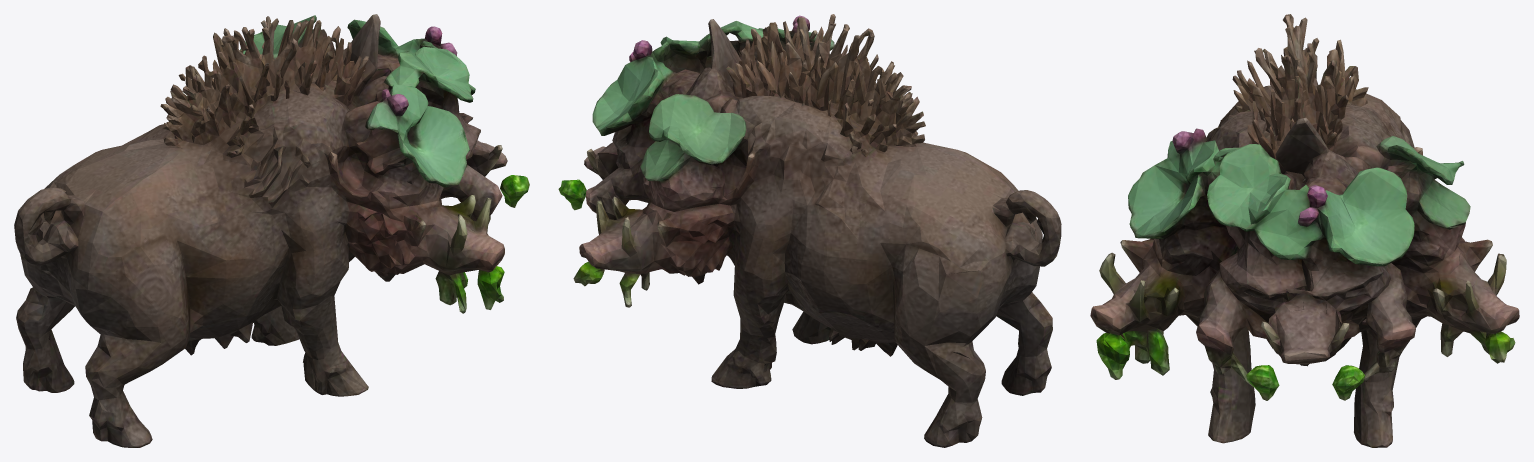
Rendered from mossmaw__bogbristle.glb.
3 renders of one model, left to right at view 1: azimuth 30°, elevation 25°; view 2: azimuth 150°, elevation 25°; view 3: azimuth 270°, elevation 25°, orthographic. The views are drawn at different scales.
Visible parts, largest first — view 1: world; view 2: world; view 3: world.
Part boxes in pixels (<box>): world: <box>14,14,529,447</box>; world: <box>558,14,1061,447</box>; world: <box>1090,14,1519,447</box>.
Bounding box in the file's own units: 1 × 0.6874 × 0.7161.
Materials: 1 (1 with a texture image).
